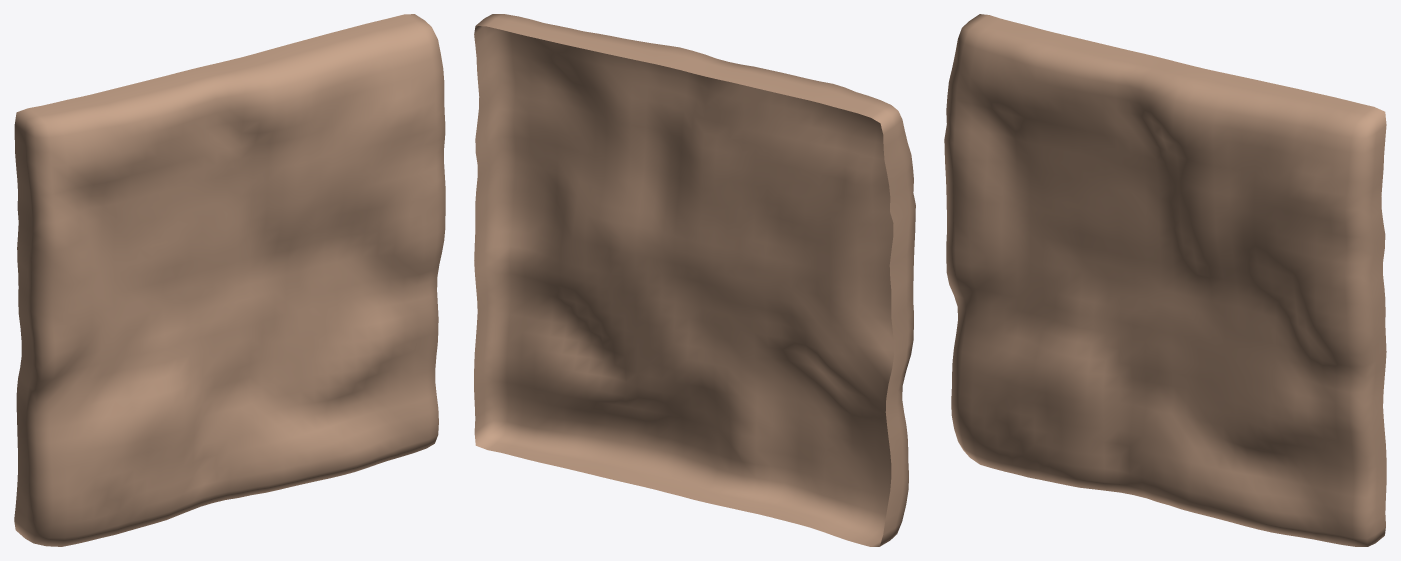
The model's file is cliff_low.FBX.
3 renders of one model, left to right at view 1: azimuth 30°, elevation 25°; view 2: azimuth 150°, elevation 25°; view 3: azimuth 330°, elevation 25°, orthographic.
Visible parts, largest first — view 1: cliff_low; view 2: cliff_low; view 3: cliff_low.
Part boxes in pixels (x1=…): cliff_low: x1=14, y1=14, x2=445, y2=546; cliff_low: x1=474, y1=14, x2=915, y2=546; cliff_low: x1=944, y1=14, x2=1386, y2=546.
Size of the model in its own units: 154 by 153 by 22.78.
